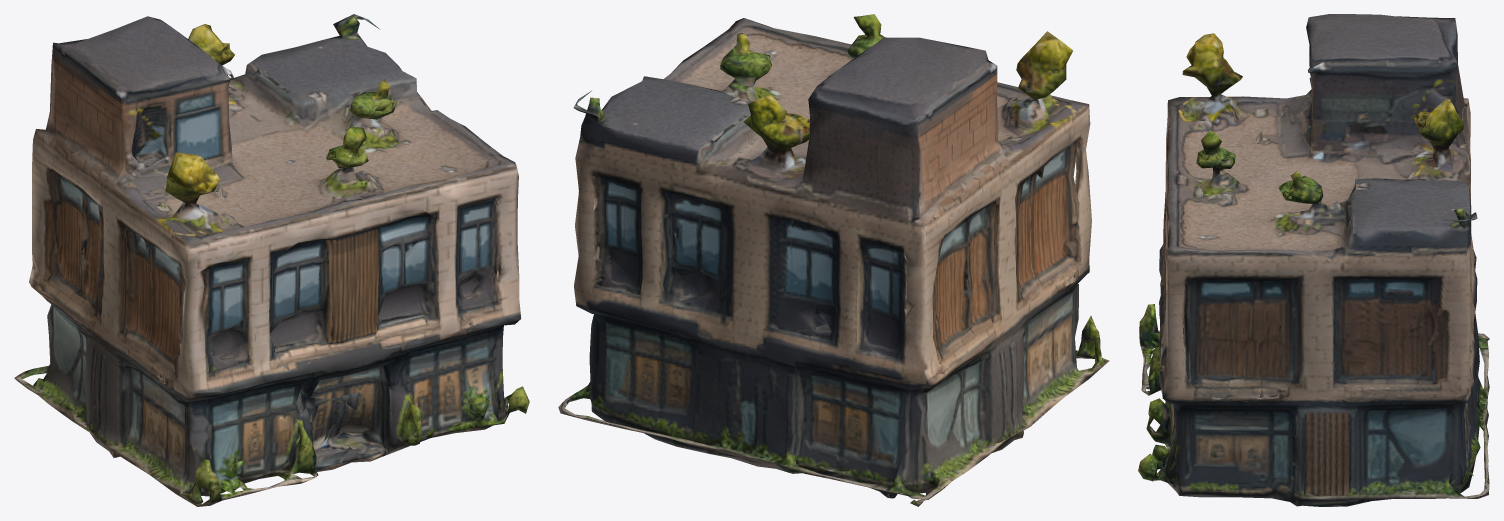
File: KR_Podium_01.glb
3 renders of one model, left to right at view 1: azimuth 30°, elevation 25°; view 2: azimuth 150°, elevation 25°; view 3: azimuth 270°, elevation 25°, orthographic. The views are drawn at different scales.
Parts seen in each view (by area): view 1: texture_mapping; view 2: texture_mapping; view 3: texture_mapping.
Part boxes in pixels (x1,y1,x2,y2): texture_mapping: [14, 14, 529, 506]; texture_mapping: [558, 14, 1109, 506]; texture_mapping: [1138, 14, 1489, 506].
Size of the model in its own units: 0.9861 by 0.9687 by 0.8816.
1 material, 1 textured.
